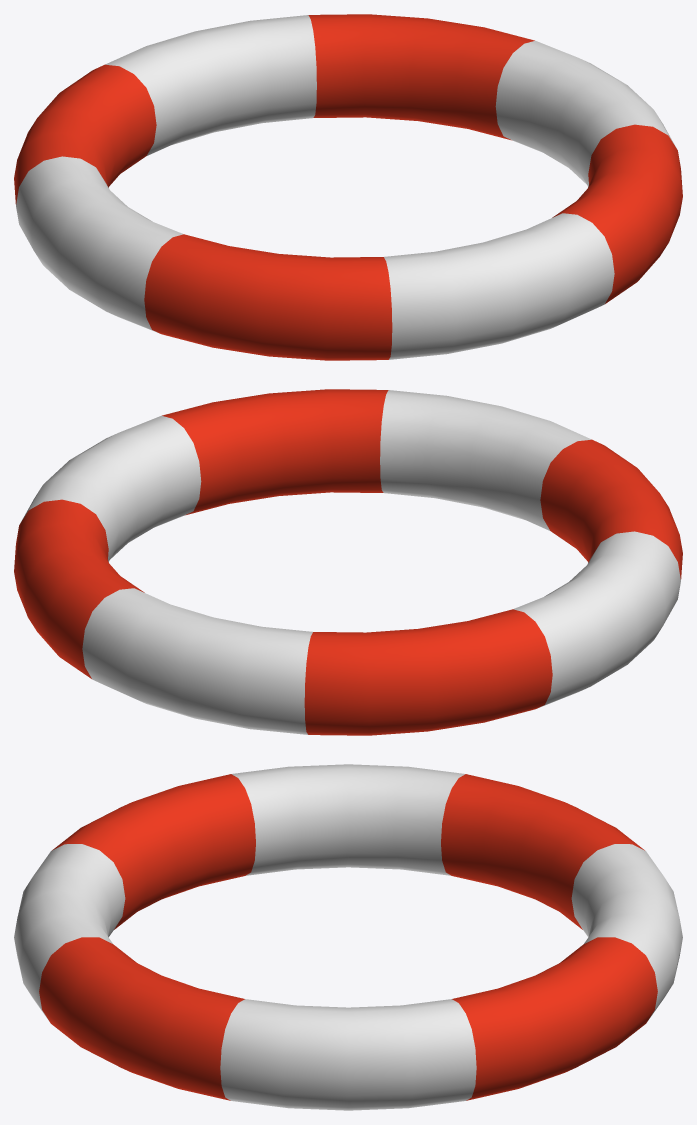
The model's file is SwimmingRing.fbx.
The picture shows the model from 3 angles, top to bottom: view 1: azimuth 30°, elevation 25°; view 2: azimuth 150°, elevation 25°; view 3: azimuth 270°, elevation 25°; orthographic projection.
Parts seen in each view (by area): view 1: swimRing; view 2: swimRing; view 3: swimRing.
Part boxes in pixels (x1=…): swimRing: x1=14, y1=14, x2=682, y2=360; swimRing: x1=14, y1=389, x2=682, y2=735; swimRing: x1=14, y1=764, x2=682, y2=1110.
Bounding box in the file's own units: 168 × 25.93 × 168.
